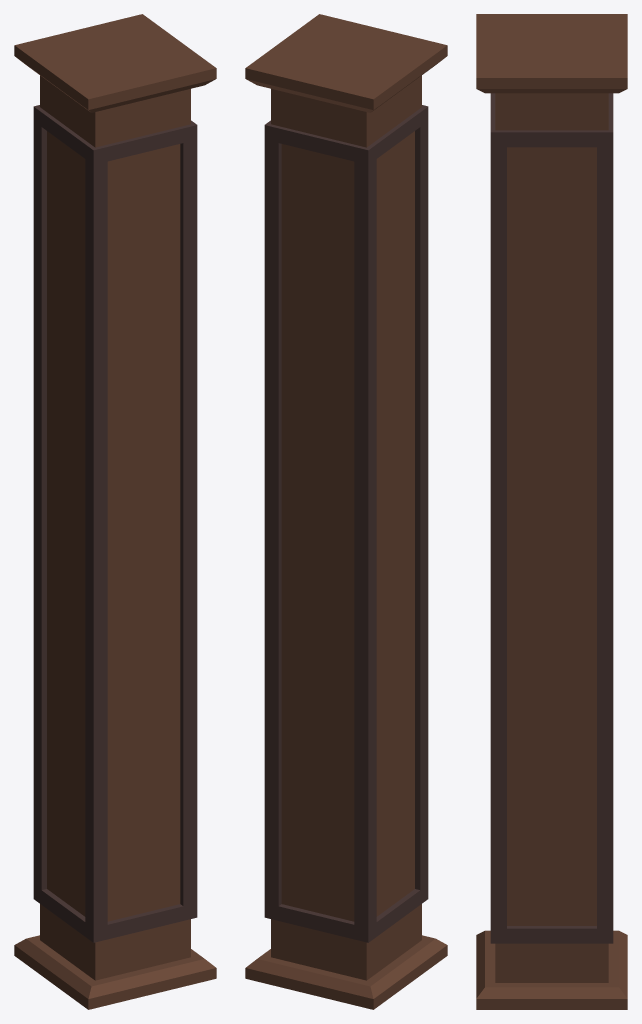
Rendered from columna_2.fbx.
3 views of the same model, side by side, from view 1: azimuth 30°, elevation 25°; view 2: azimuth 150°, elevation 25°; view 3: azimuth 270°, elevation 25° (orthographic). The views are drawn at different scales.
Parts seen in each view (by area): view 1: Columna_2; view 2: Columna_2; view 3: Columna_2.
Part boxes in pixels (x1,y1,x2,y2): Columna_2: (14,14,216,1009); Columna_2: (245,14,447,1009); Columna_2: (476,14,627,1009).
Size of the model in its own units: 86.11 by 585 by 86.11.
